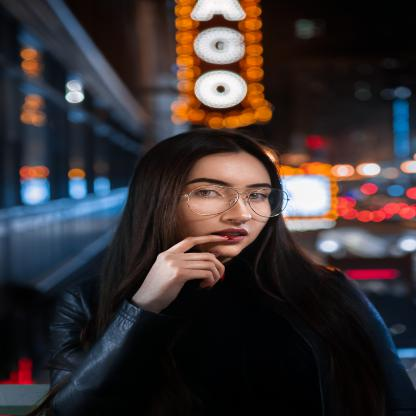Eye: (193, 187, 225, 201), (245, 190, 270, 204)
Mouth: (210, 226, 250, 245)
Nose: (218, 201, 256, 224)
